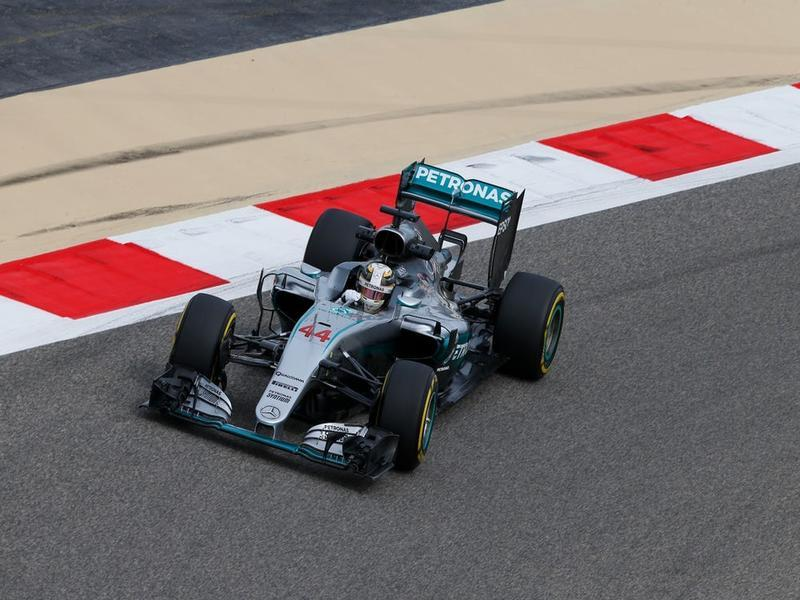f1: (151, 157, 627, 492)
